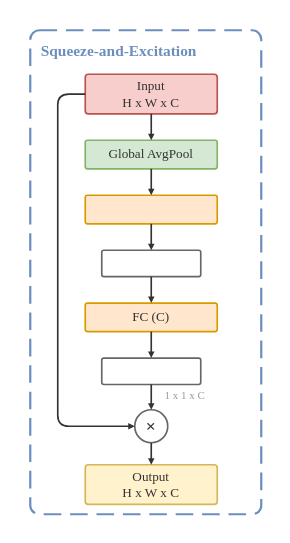
Image size: 290x543. Some labels were removed from this diagram. The centre of each missing label's shape, as x and y in pixels:
"FC (C/r)" belongs at pixel 151 209.
"ReLU" belongs at pixel 150 263.
"Sigmoid" belongs at pixel 150 371.
